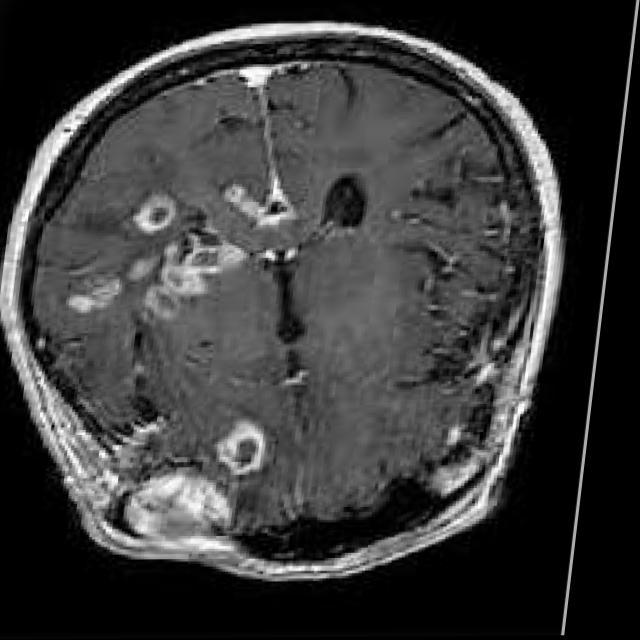Tumor: (77, 193, 253, 315), (133, 475, 242, 542), (224, 416, 274, 470)
